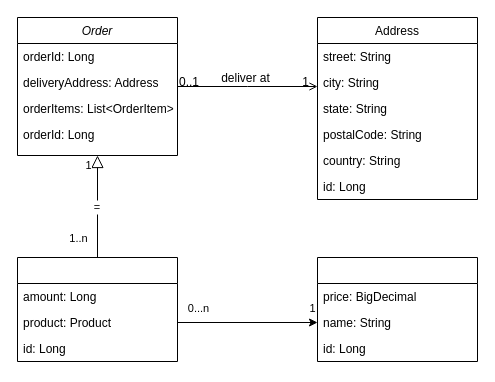
The diagram is 495 pixels wide and 382 high, and some of its shapes have lost their labels. The box of each missing label's shape, as (x1, y1, x2, y2) in pixels:
OrderItem: (16, 256, 178, 362)
Product: (316, 256, 478, 362)
